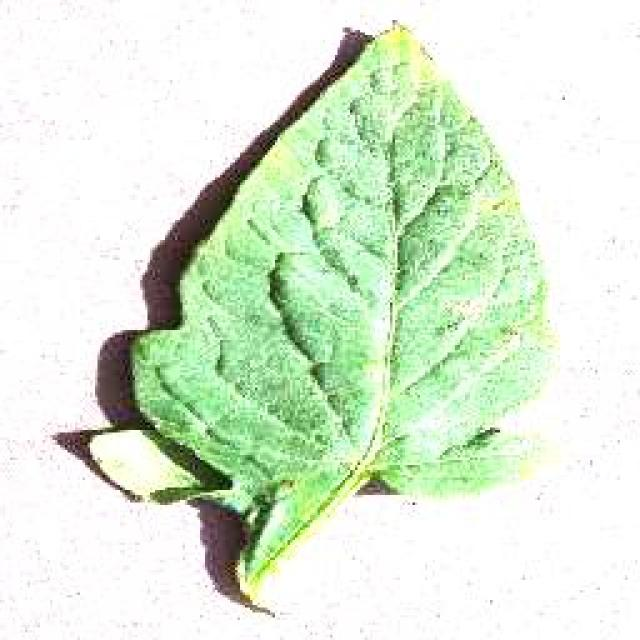Tomato___Target_Spot: (88, 25, 552, 598)
